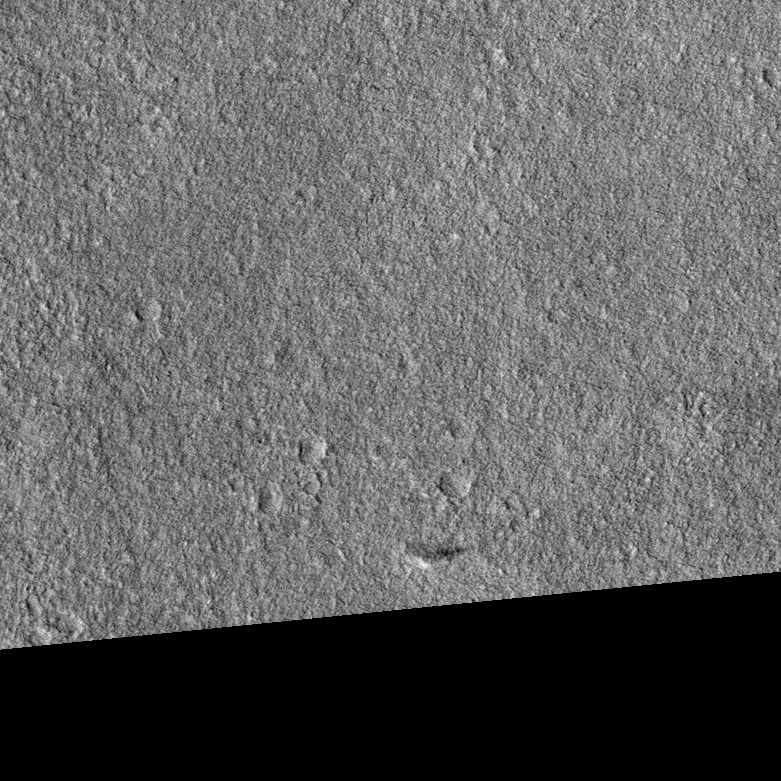dust_devil: (412, 542, 473, 571)
